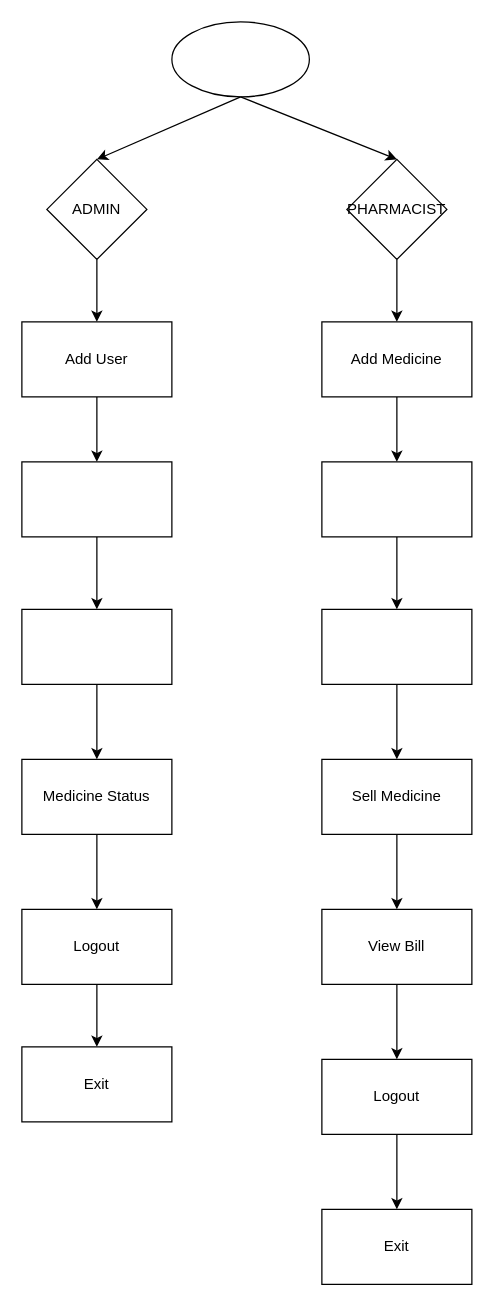
This 494x1306 diagram has some shape labels left out. The shapes that lost their labels are listed below. From the top down, each one's box as (x1, y1, x2, y2) in pixels, then its label:
(171, 21, 309, 97): Login
(21, 461, 172, 537): View User
(321, 461, 472, 537): View Medicine
(21, 608, 172, 684): Update
(321, 608, 472, 684): Update Medicine
